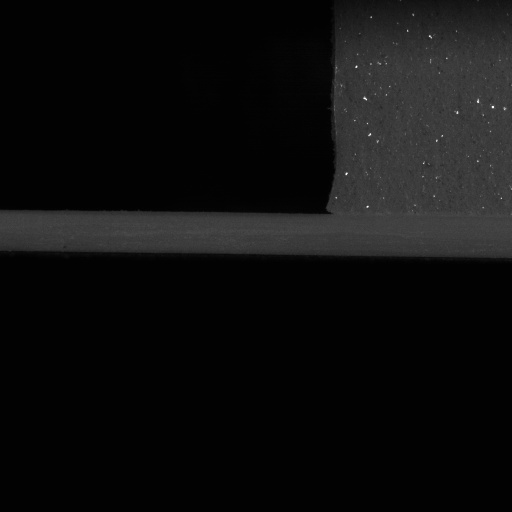changdai: (0, 208, 332, 259)
